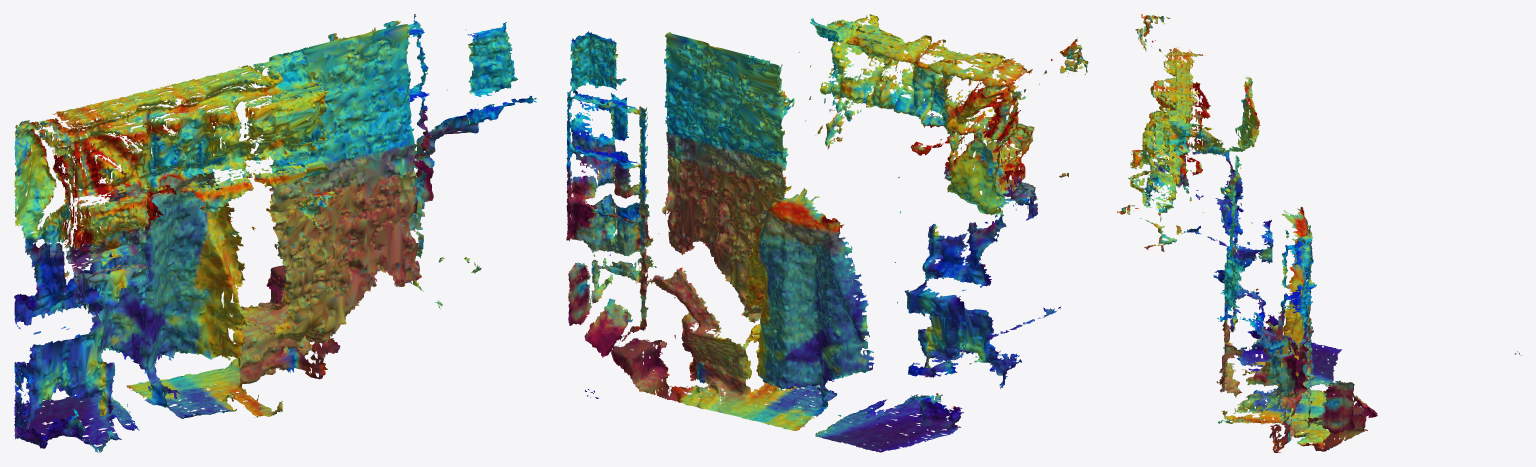
Rendered from mesh_iter_0004.obj.
3 views of the same model, side by side, from view 1: azimuth 30°, elevation 25°; view 2: azimuth 150°, elevation 25°; view 3: azimuth 270°, elevation 25° (orthographic). The views are drawn at different scales.
Size of the model in its own units: 3.04 by 2.16 by 2.54.
